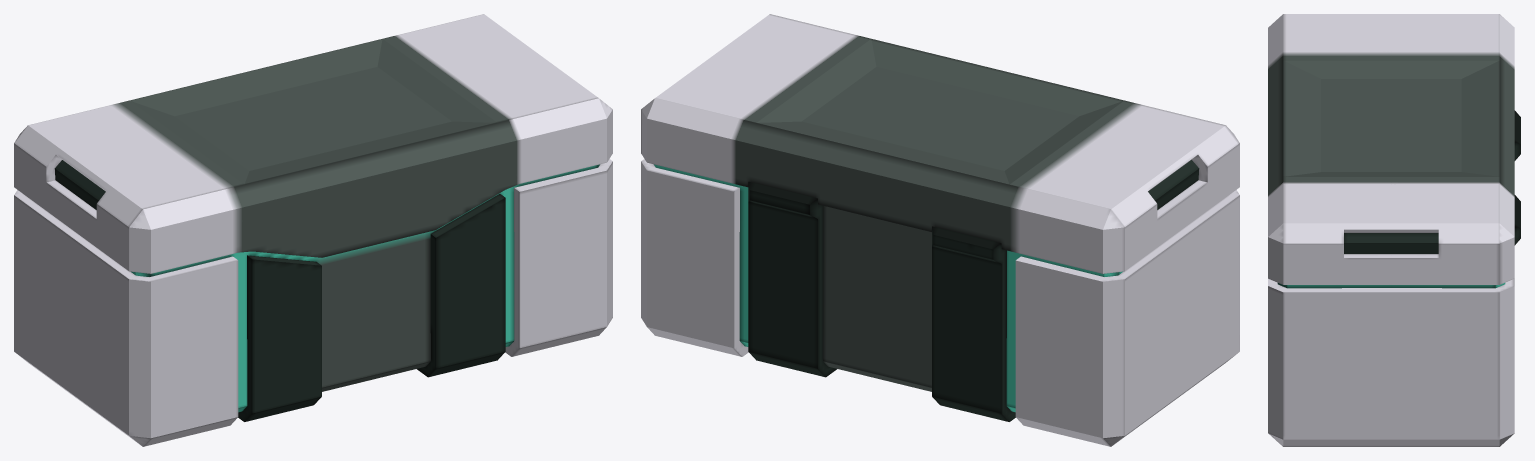
The model's file is CrateDungeon1.fbx.
3 renders of one model, left to right at view 1: azimuth 30°, elevation 25°; view 2: azimuth 150°, elevation 25°; view 3: azimuth 270°, elevation 25°, orthographic. The views are drawn at different scales.
Parts seen in each view (by area): view 1: CrateDungeon1; view 2: CrateDungeon1; view 3: CrateDungeon1.
Boxes of the visible parts, x1,y1,x2,y2 form: CrateDungeon1: [14, 14, 612, 446]; CrateDungeon1: [641, 14, 1239, 446]; CrateDungeon1: [1268, 14, 1520, 446].
Size of the model in its own units: 75.36 by 35.36 by 36.23.
